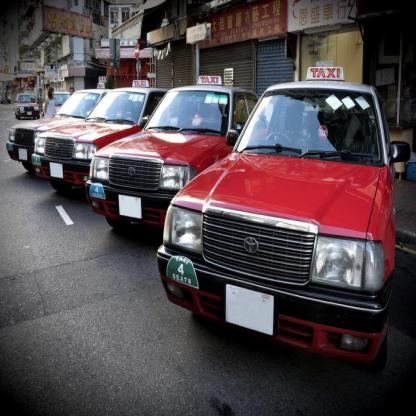taxi: (157, 58, 403, 381)
